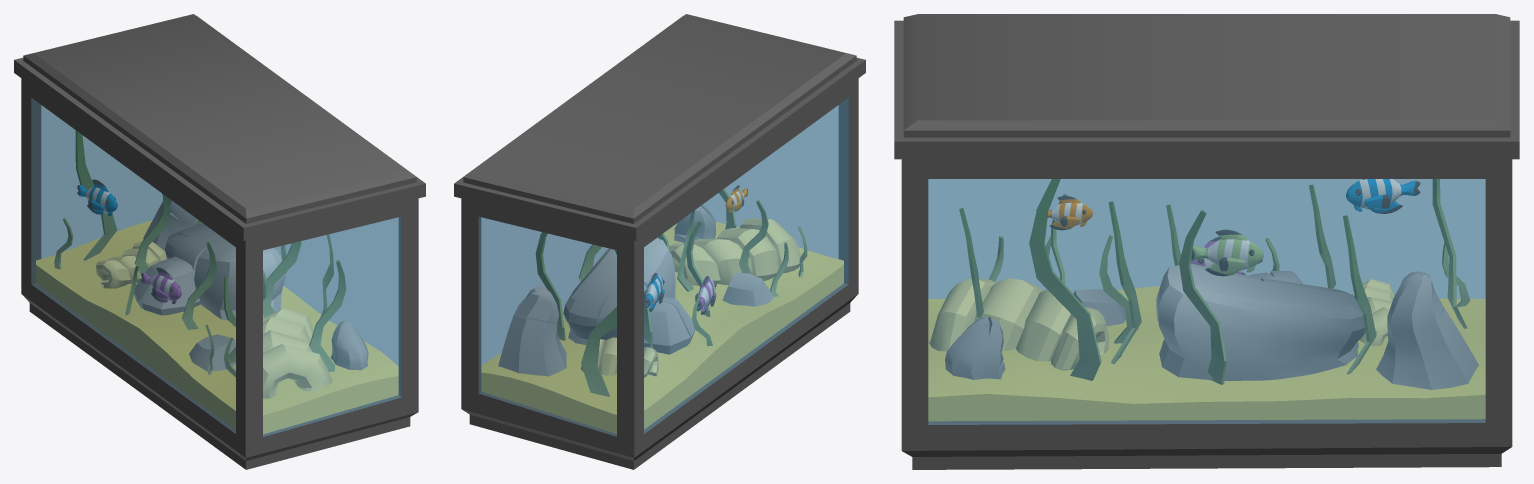
The model's file is Aquarium.fbx.
3 views of the same model, side by side, from view 1: azimuth 30°, elevation 25°; view 2: azimuth 150°, elevation 25°; view 3: azimuth 270°, elevation 25° (orthographic). The views are drawn at different scales.
Visible parts, largest first — view 1: Aquarium; view 2: Aquarium; view 3: Aquarium.
Part boxes in pixels (x1,y1,x2,y2): Aquarium: (14, 14, 425, 469); Aquarium: (454, 14, 865, 469); Aquarium: (894, 14, 1519, 469).
Size of the model in its own units: 0.5303 by 1.16 by 0.7215.
